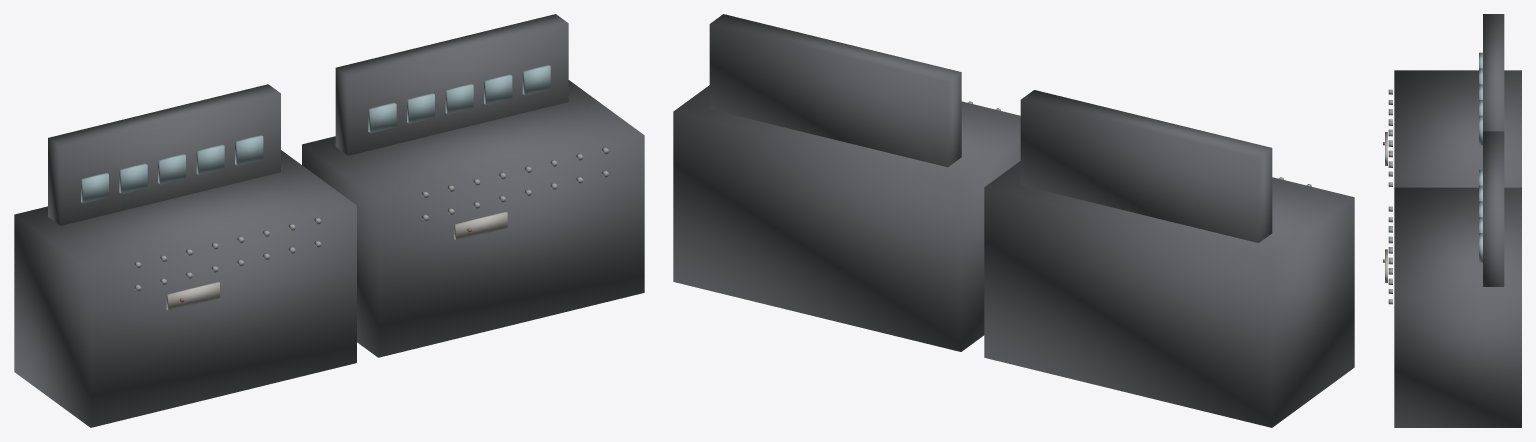
File: pa_rack__cluster.glb
3 views of the same model, side by side, from view 1: azimuth 30°, elevation 25°; view 2: azimuth 150°, elevation 25°; view 3: azimuth 270°, elevation 25° (orthographic). The views are drawn at different scales.
Visible parts, largest first — view 1: world; view 2: world; view 3: world.
Boxes of the visible parts, bbox=[...] form: world: bbox=[14, 14, 644, 427]; world: bbox=[673, 14, 1354, 427]; world: bbox=[1383, 14, 1521, 427].
Size of the model in its own units: 3.02 by 1.23 by 0.7835.
